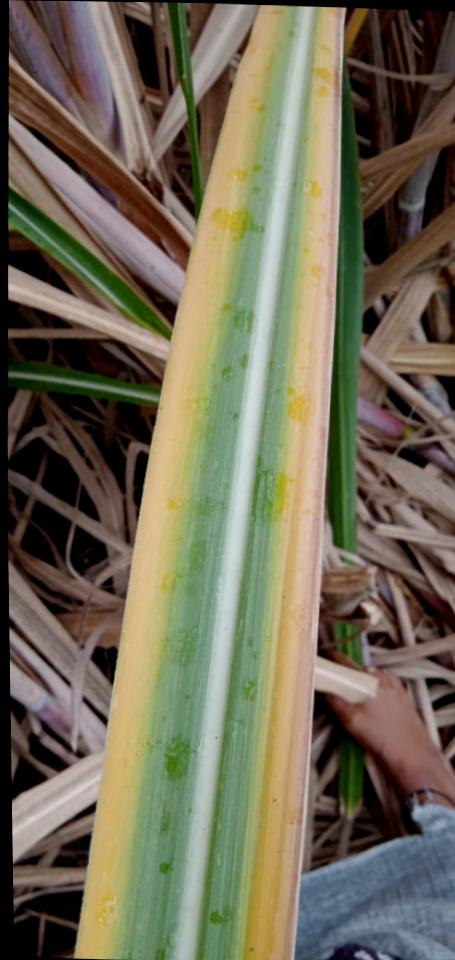Yellow: (77, 5, 289, 958), (232, 6, 343, 960)
